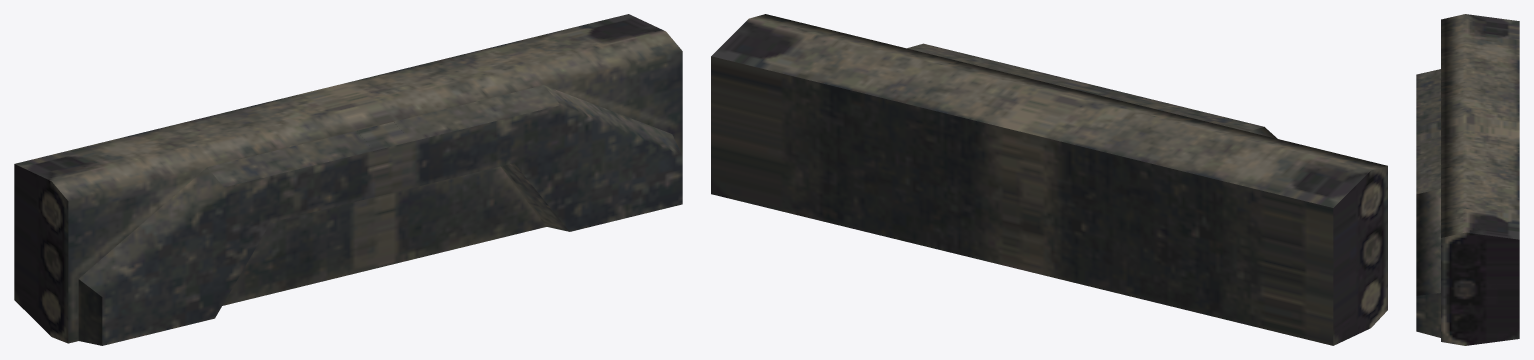
3 renders of one model, left to right at view 1: azimuth 30°, elevation 25°; view 2: azimuth 150°, elevation 25°; view 3: azimuth 270°, elevation 25°, orthographic. The views are drawn at different scales.
Parts seen in each view (by area): view 1: set_0_group_0; view 2: set_0_group_0; view 3: set_0_group_0.
Part boxes in pixels (x1,y1,x2,y2): set_0_group_0: [14, 14, 682, 345]; set_0_group_0: [711, 14, 1387, 345]; set_0_group_0: [1416, 14, 1519, 345].
Bounding box in the file's own units: 0.6164 × 0.1493 × 0.1232.
Materials: 1 (1 with a texture image).
